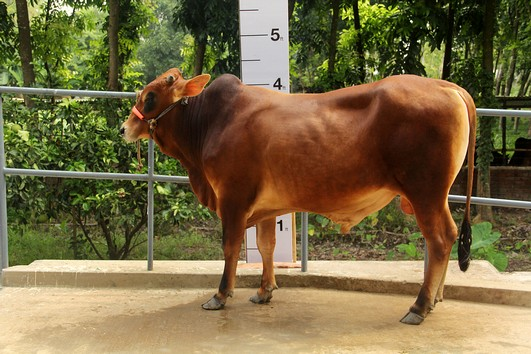cow: (114, 62, 485, 329)
